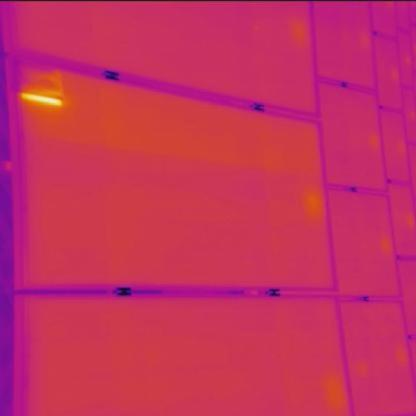anomaly: (15, 90, 72, 109)
